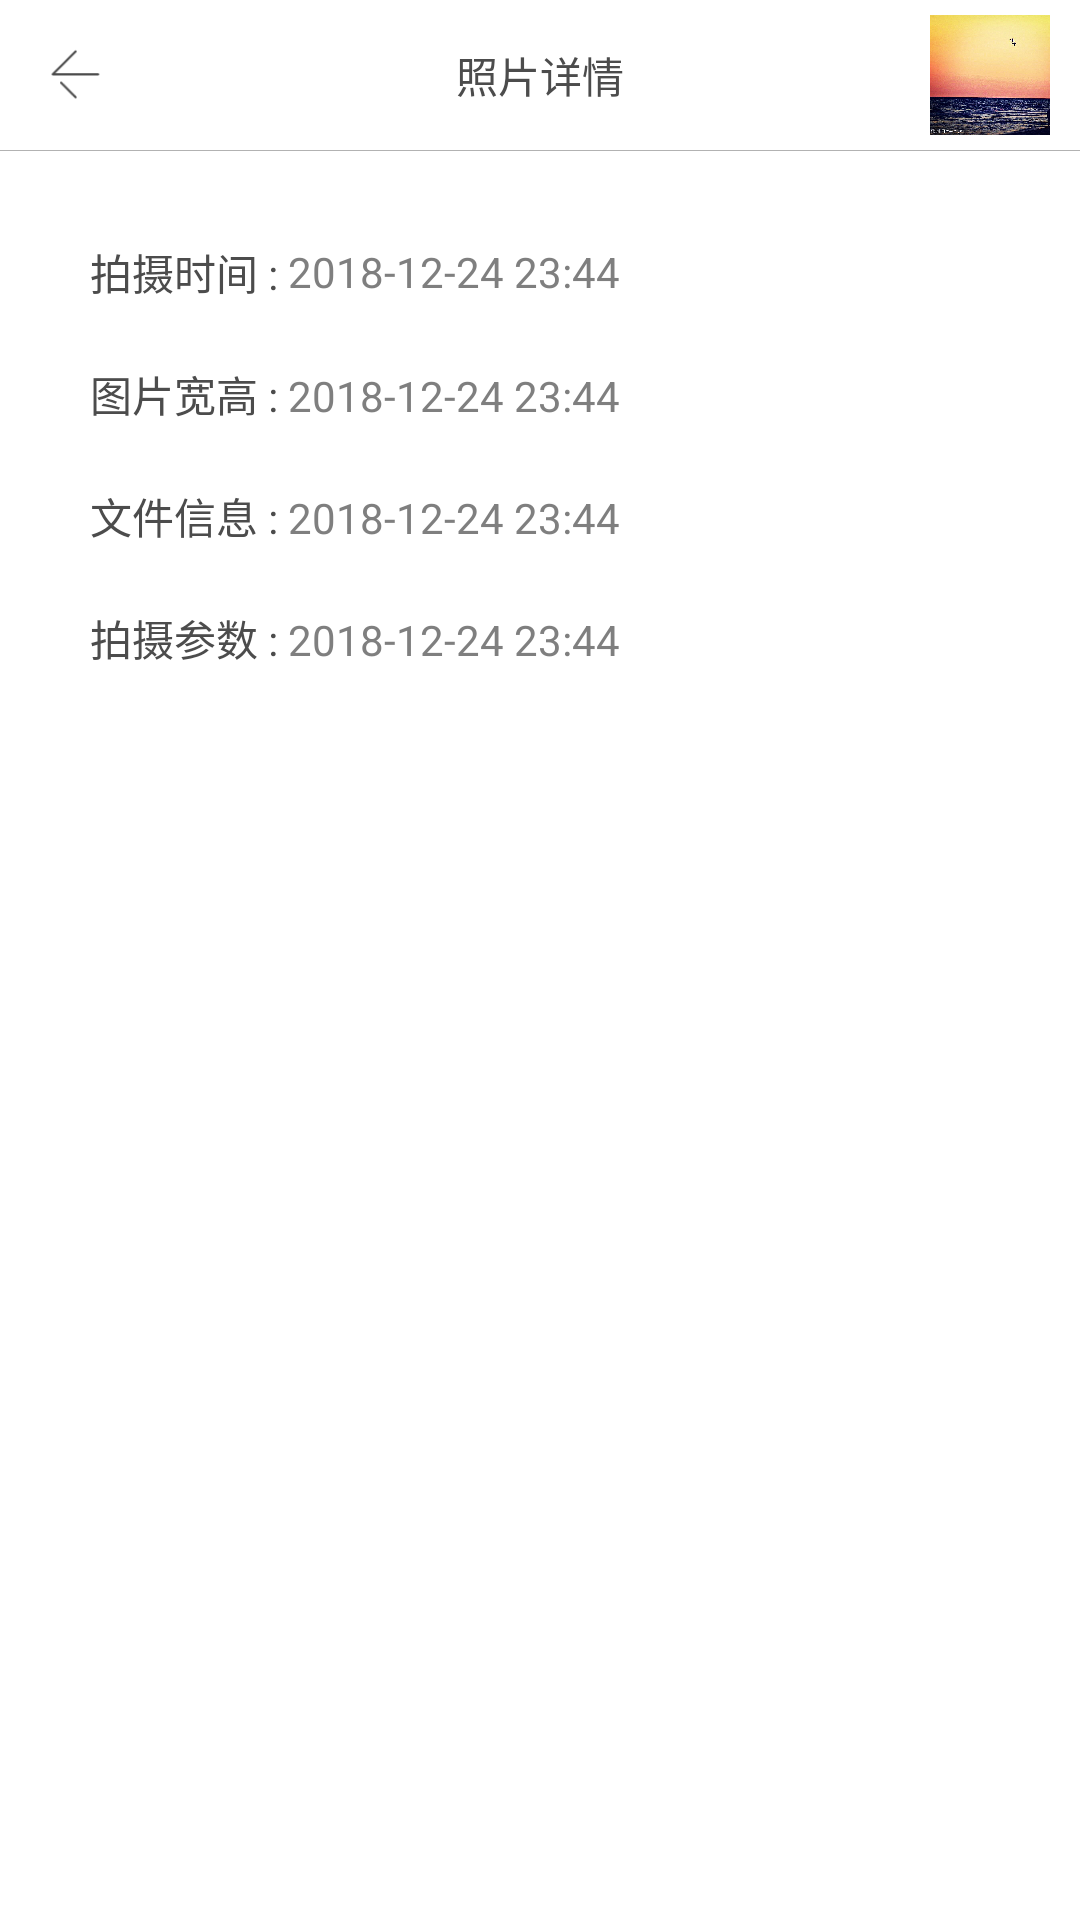

Named icons in this screenshot (1080px×1920px) and their bounding boxes, box=[x1, y1, x2, y2]:
back: box=[51, 50, 100, 99]
